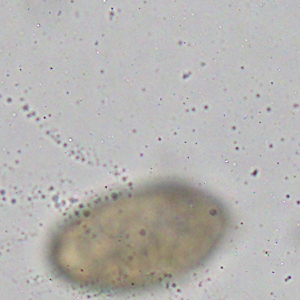Fasciola_hepatica_egg: (44, 180, 228, 290)
